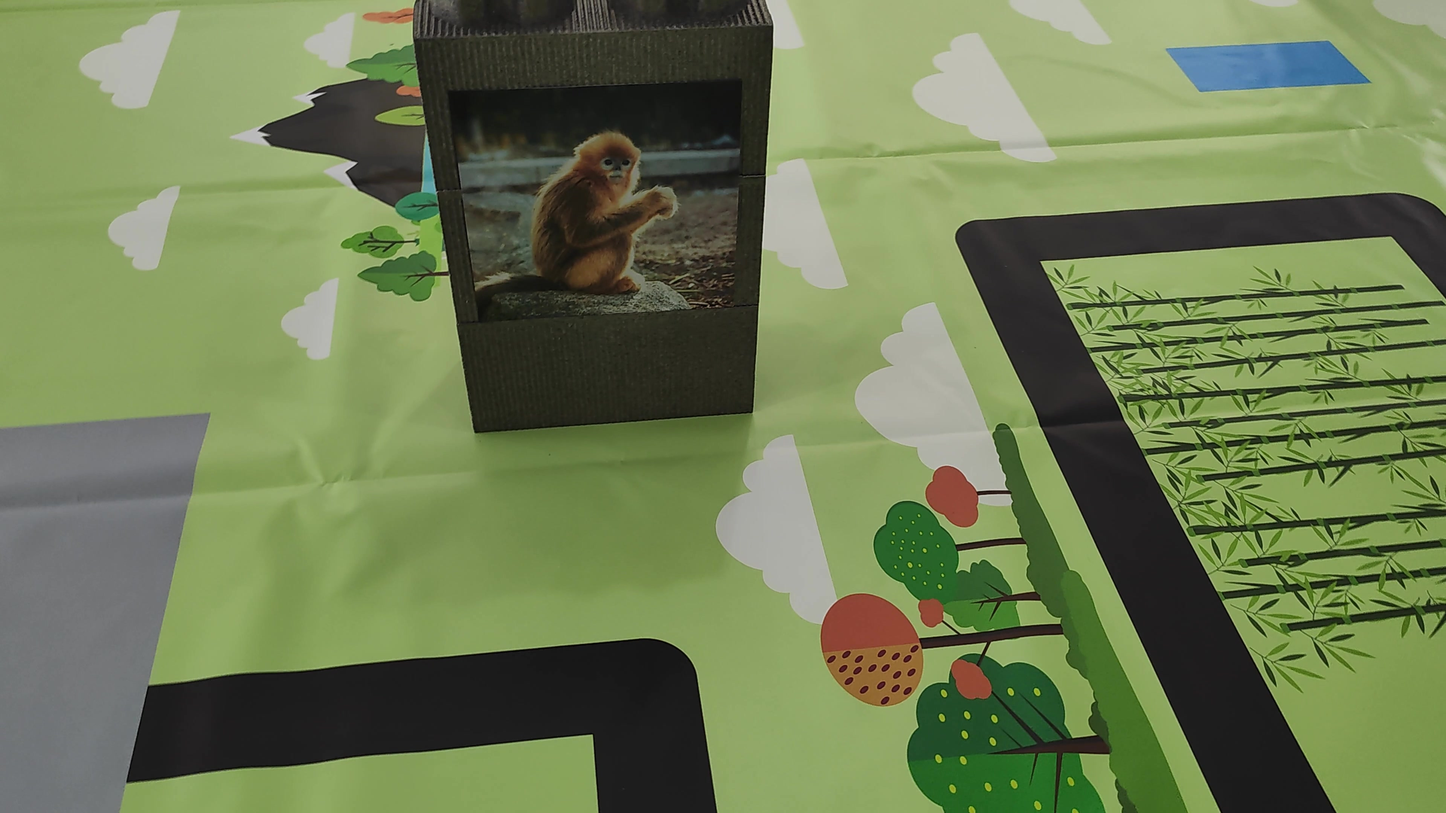monkey: (464, 124, 685, 322)
